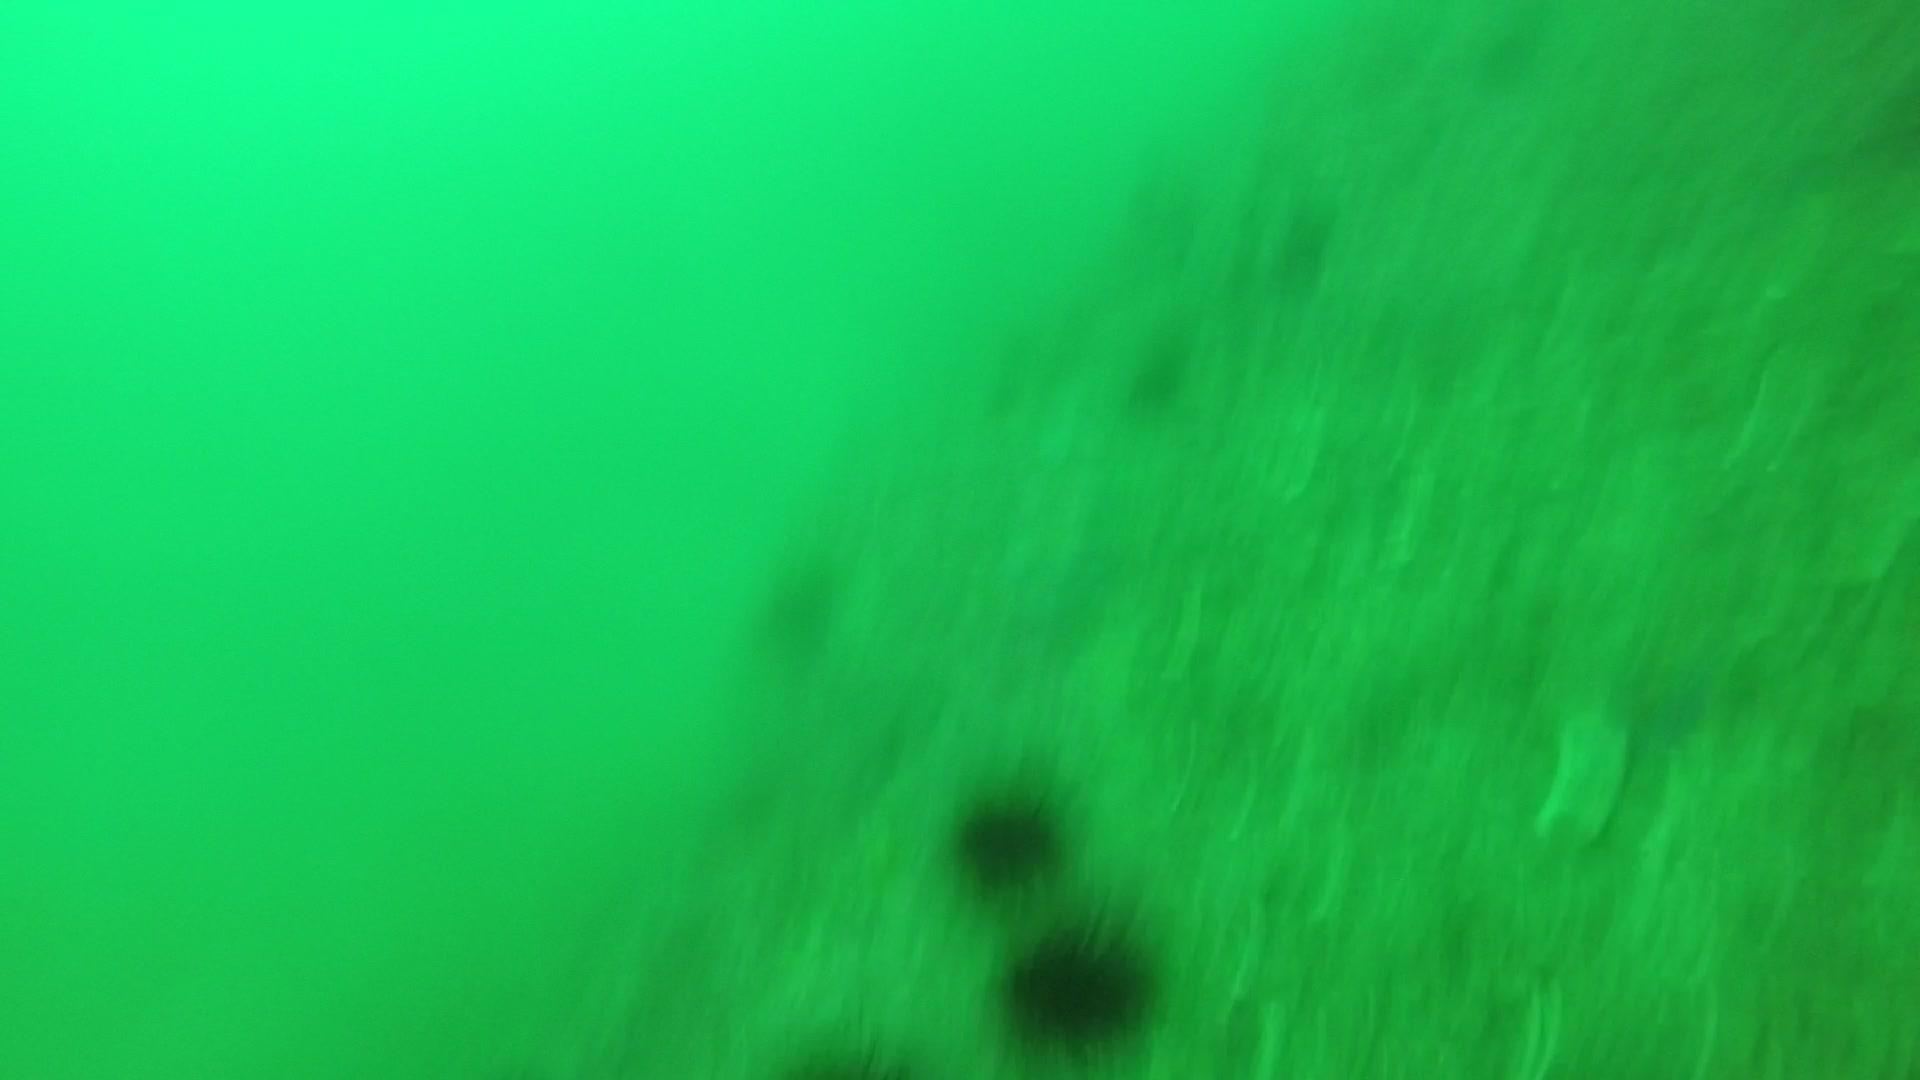echinus: (997, 911, 1160, 1052), (947, 781, 1069, 891), (746, 546, 851, 665), (760, 1017, 943, 1080), (1120, 324, 1197, 415)
